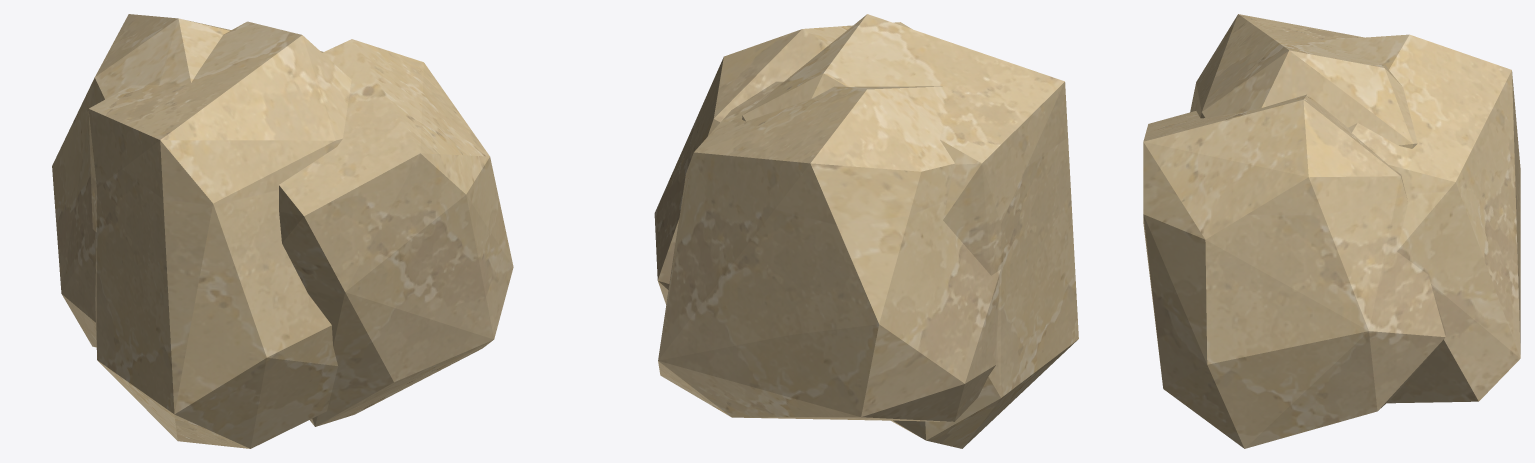
File: ground_bottom_interior_08.glb
3 views of the same model, side by side, from view 1: azimuth 30°, elevation 25°; view 2: azimuth 150°, elevation 25°; view 3: azimuth 270°, elevation 25° (orthographic). The views are drawn at different scales.
Visible parts, largest first — view 1: GroundBottomInterior08_Body; view 2: GroundBottomInterior08_Body; view 3: GroundBottomInterior08_Body.
Boxes of the visible parts, x1,y1,x2,y2 form: GroundBottomInterior08_Body: [52, 14, 513, 448]; GroundBottomInterior08_Body: [654, 14, 1078, 448]; GroundBottomInterior08_Body: [1143, 14, 1520, 448].
Bounding box in the file's own units: 1 × 1.11 × 1.
1 material, 1 textured.
